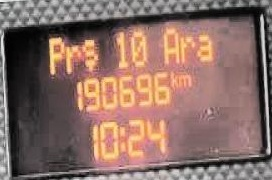0: (99, 118, 118, 158), (129, 28, 146, 67), (100, 73, 116, 108)
1: (112, 28, 127, 68), (89, 122, 98, 158), (72, 76, 81, 110)
2: (125, 116, 144, 155)
4: (145, 117, 165, 153)
6: (118, 73, 134, 107), (153, 70, 169, 103)
9: (134, 71, 151, 105), (83, 76, 99, 110)
X: (160, 23, 179, 63), (46, 33, 63, 73), (80, 36, 97, 70), (195, 30, 212, 61), (64, 42, 80, 73), (179, 33, 194, 63), (177, 72, 190, 87), (169, 67, 178, 88), (119, 125, 125, 151)
